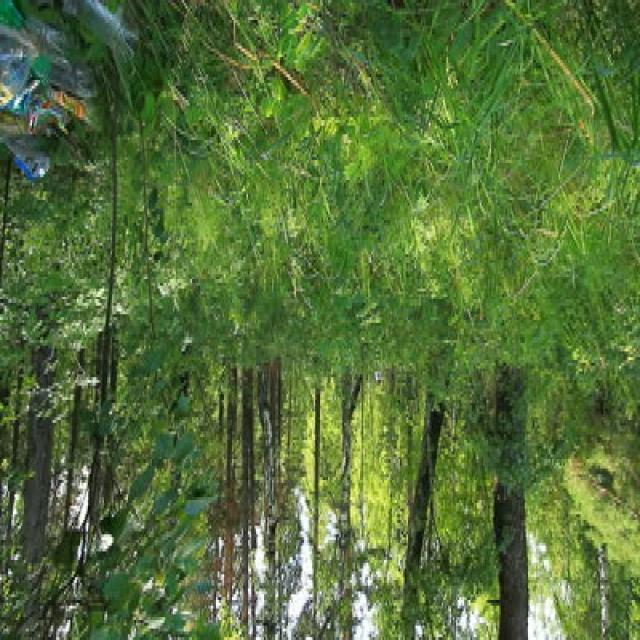garbage: (0, 0, 135, 205)
